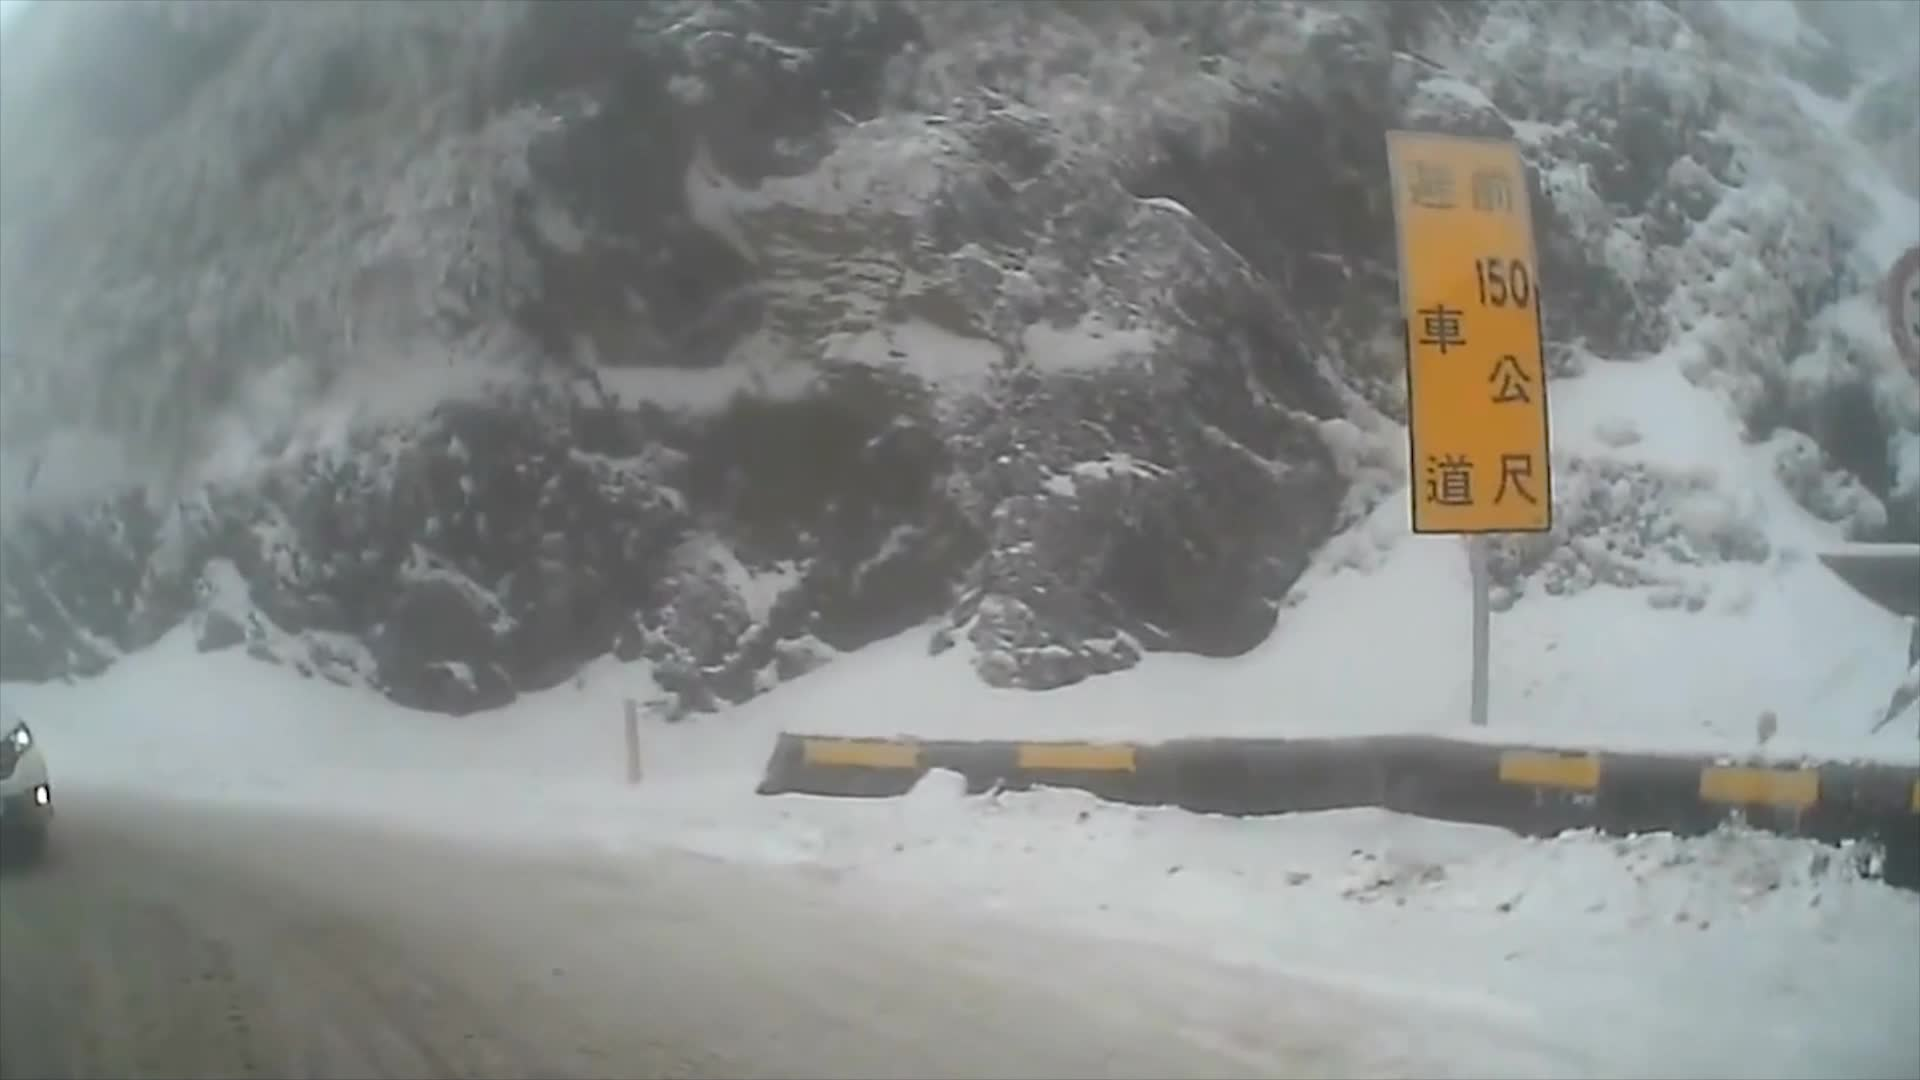vehicle: (1, 698, 53, 870)
